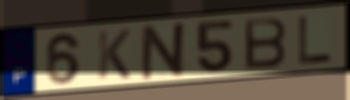5: (194, 19, 235, 75)
6: (44, 31, 82, 87)
B: (242, 15, 290, 71)
K: (96, 28, 133, 81)
L: (297, 14, 335, 65)
N: (139, 19, 191, 82)
